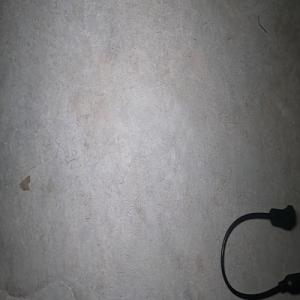Wire: (220, 204, 300, 300)
